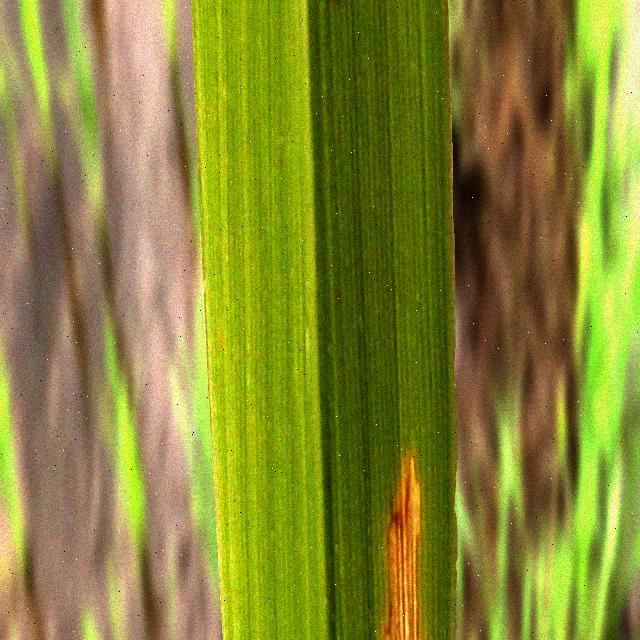BLS: (383, 453, 425, 640)
